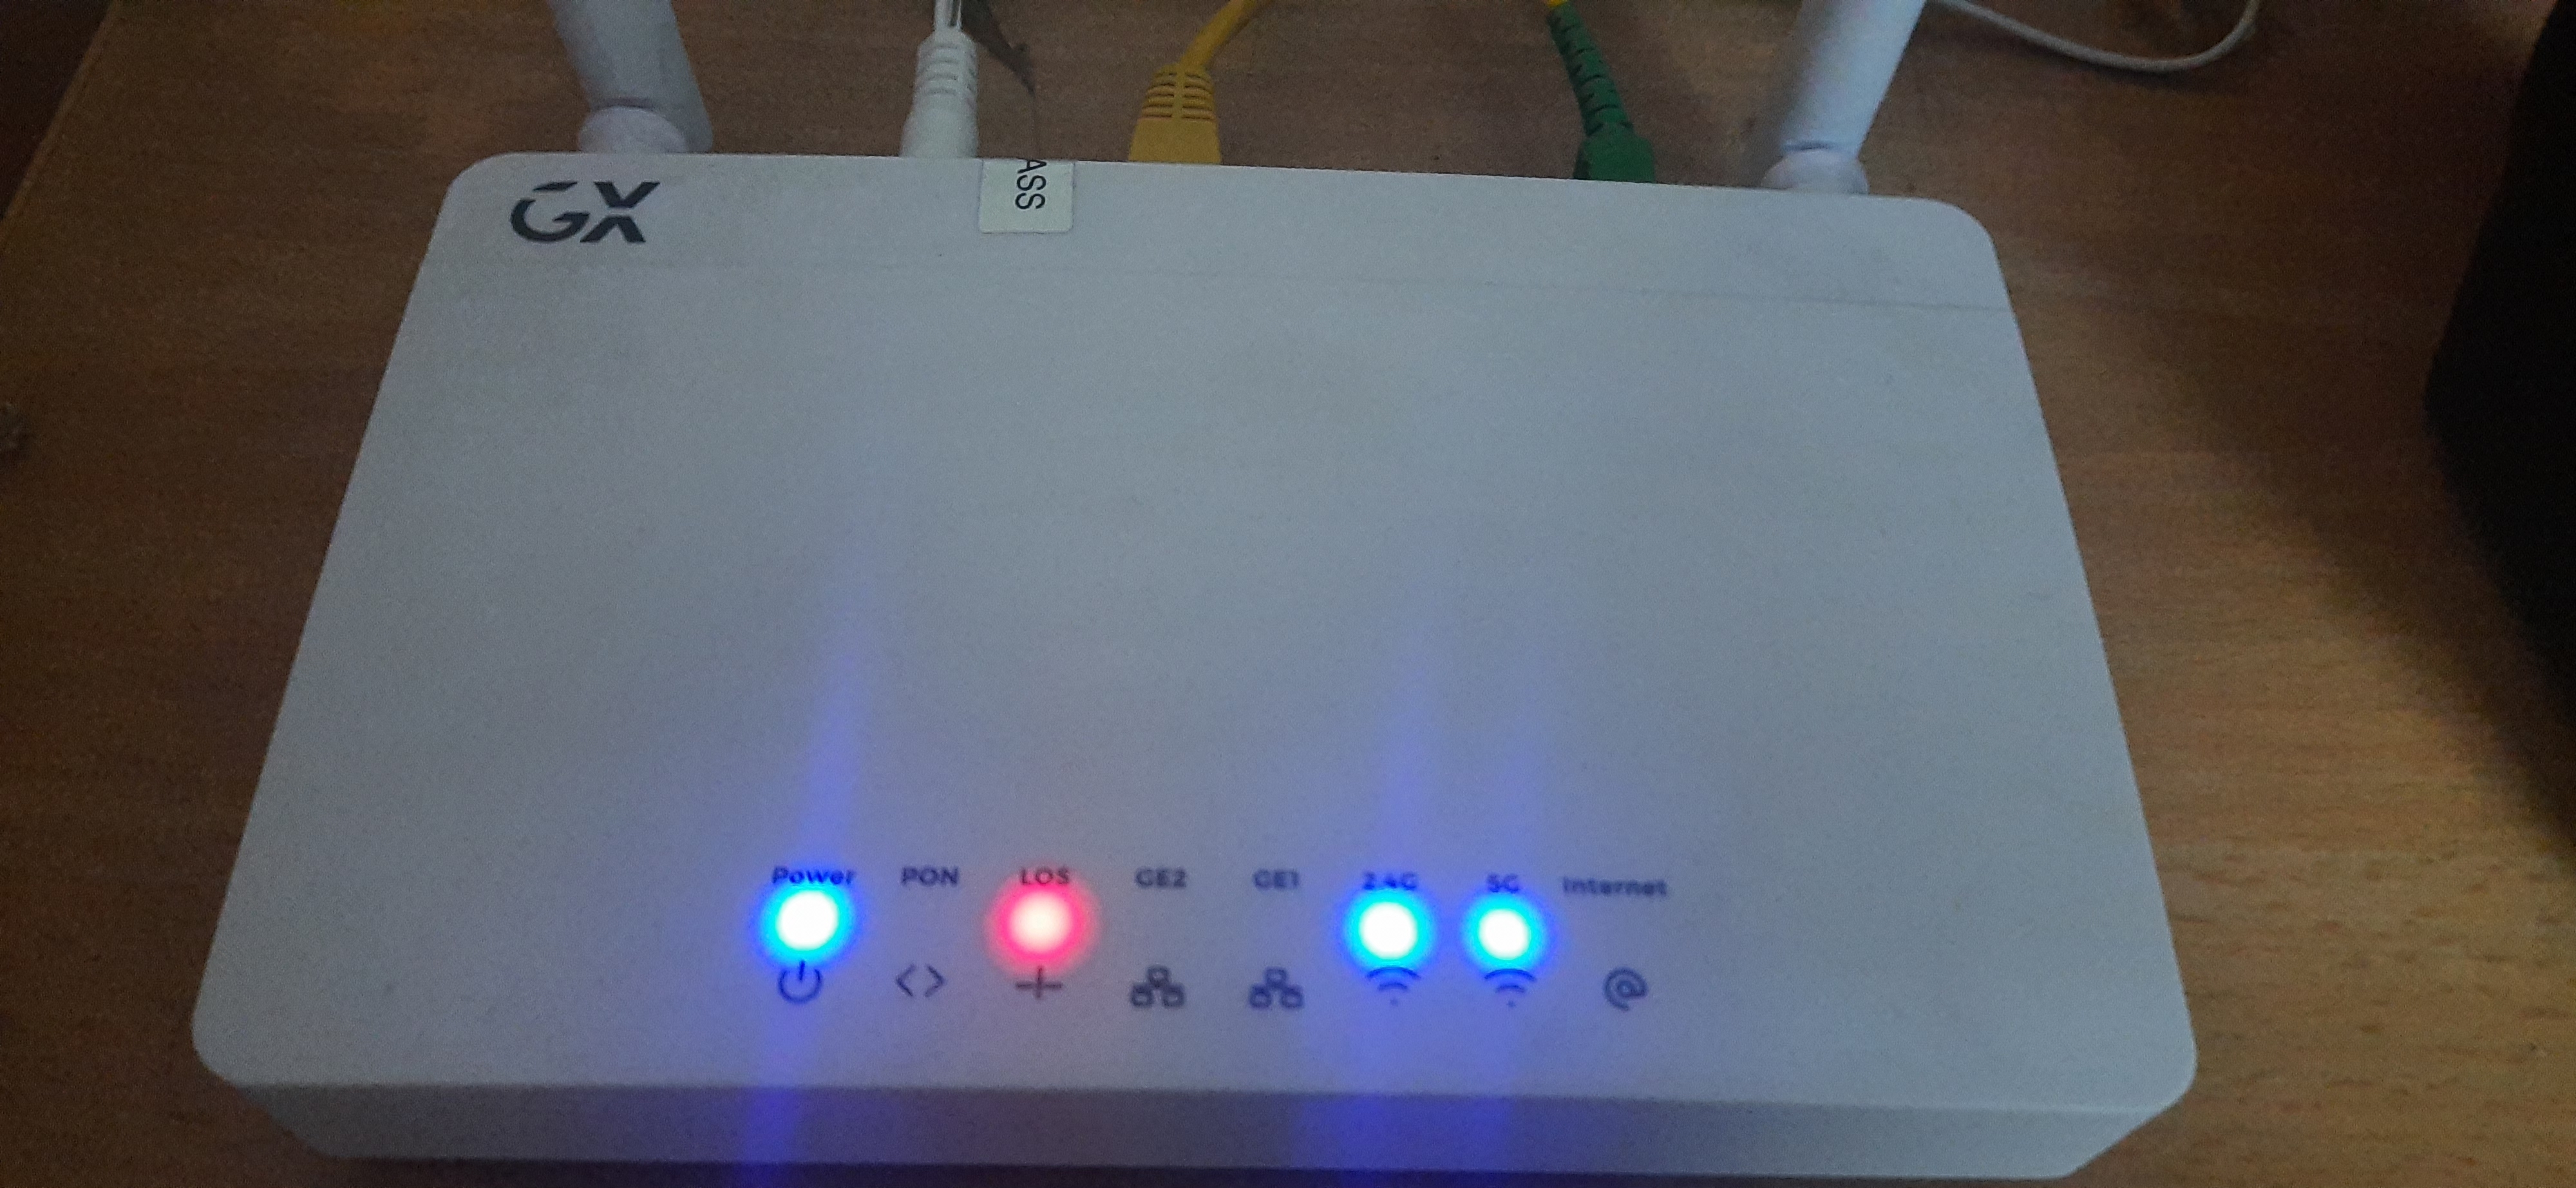LOSConnectionIssue: (977, 830, 1129, 1042)
